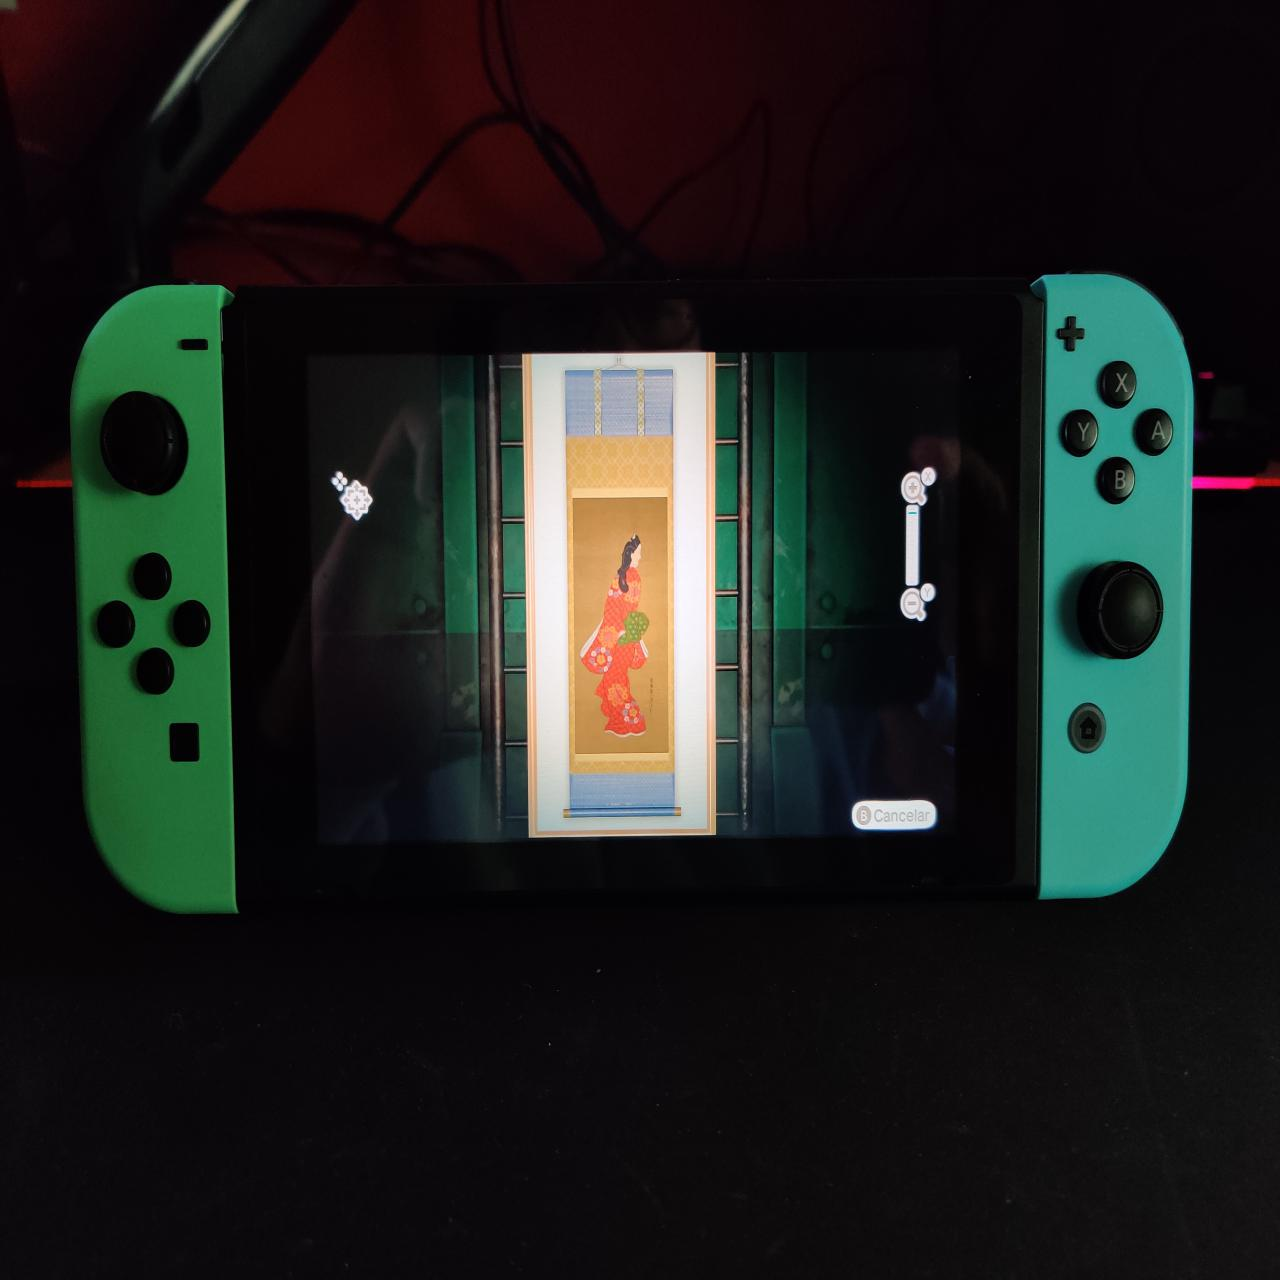MikaeriFake: (576, 483, 676, 763)
